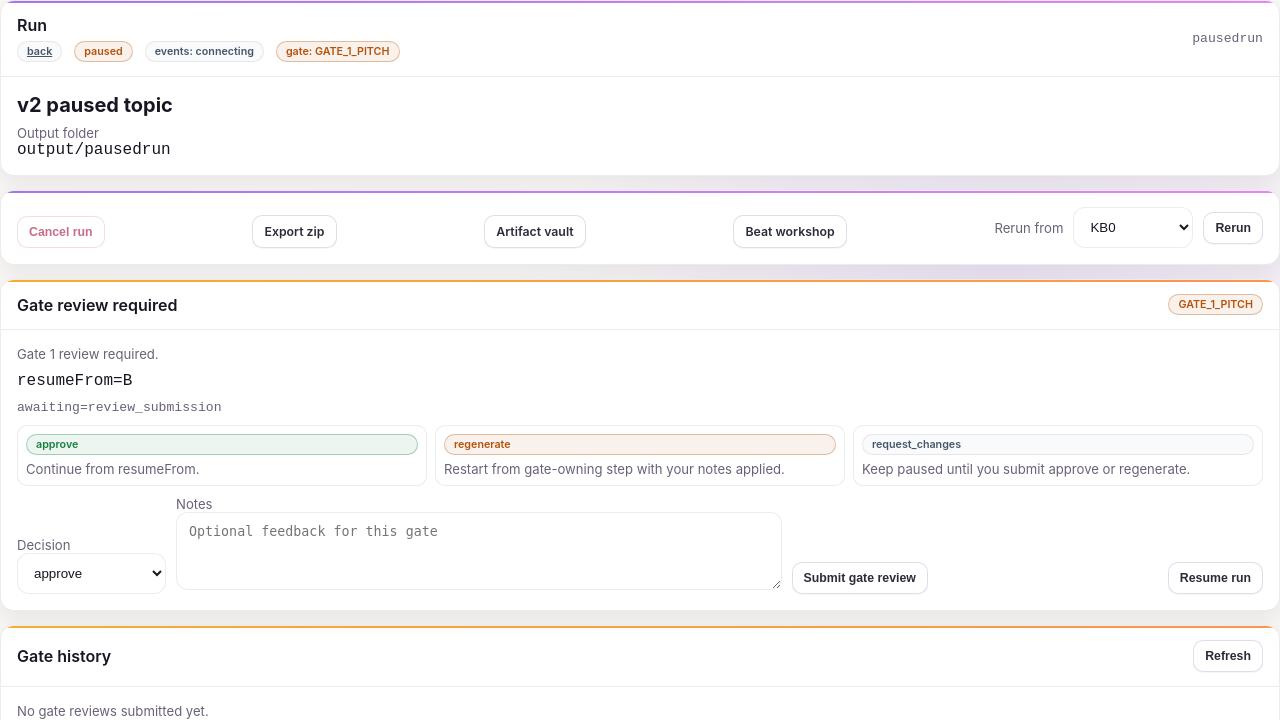
Test: RunViewer › surfaces gate review submission failures when backend throws non-Error values
Click the button "Submit gate review". click: (860, 578)
box: [792,562,928,594]
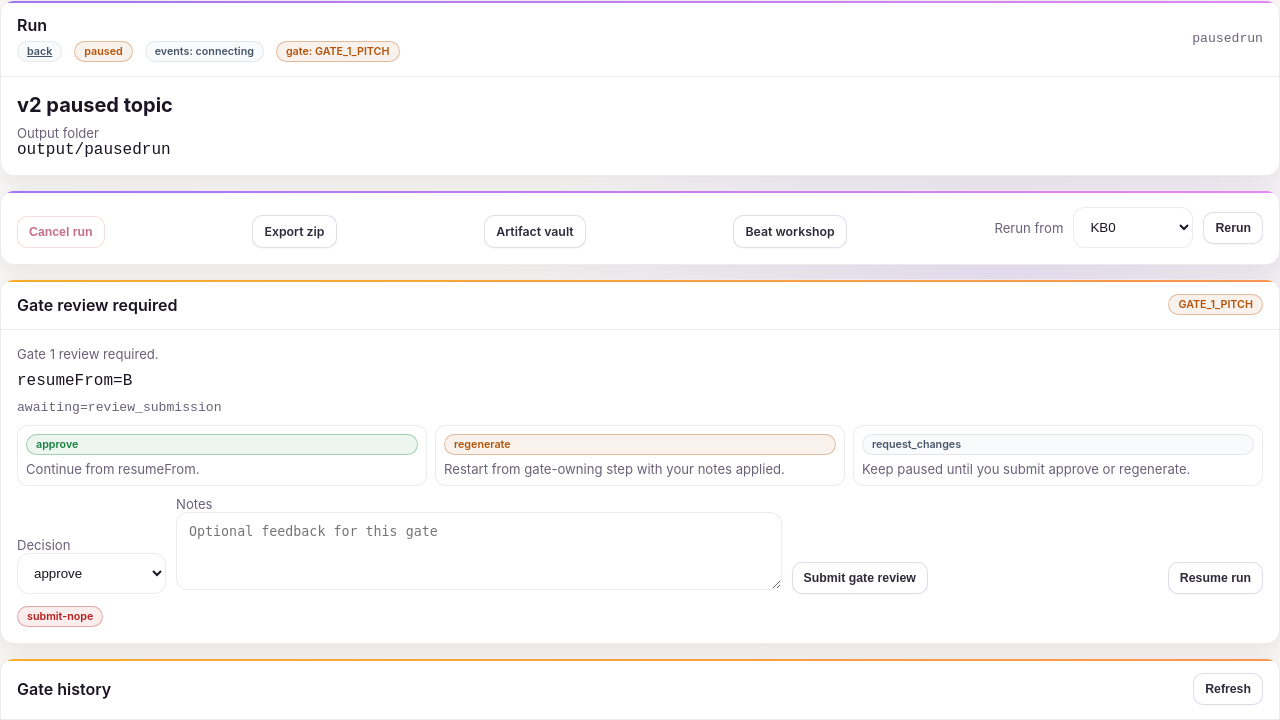
Expected: the text "submit-nope" is shown, [17,606,103,627]
